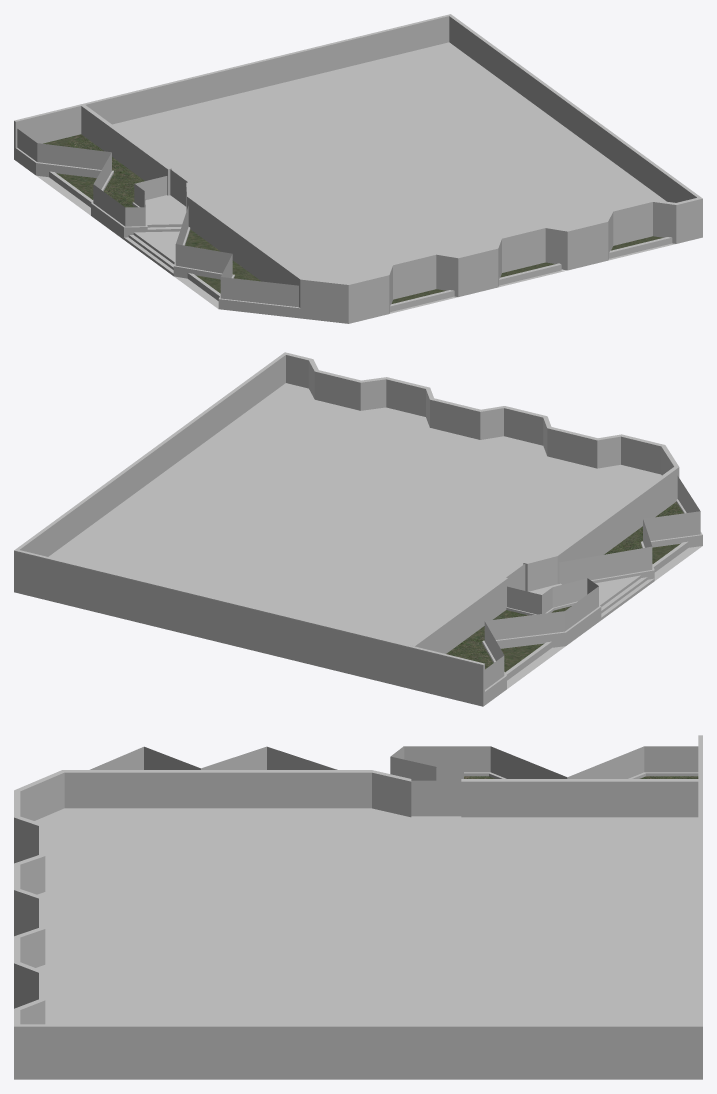
Rendered from Base-Corner-04.fbx.
3 views of the same model, one above another, from view 1: azimuth 30°, elevation 25°; view 2: azimuth 150°, elevation 25°; view 3: azimuth 270°, elevation 25° (orthographic). The views are drawn at different scales.
Visible parts, largest first — view 1: Base-Corner-04; view 2: Base-Corner-04; view 3: Base-Corner-04.
Part boxes in pixels (x1,y1,x2,y2): Base-Corner-04: (14,14,702,323); Base-Corner-04: (14,352,702,706); Base-Corner-04: (14,735,702,1079).
Size of what is drawn, in the model's own units: 3600 by 307 by 3600.
